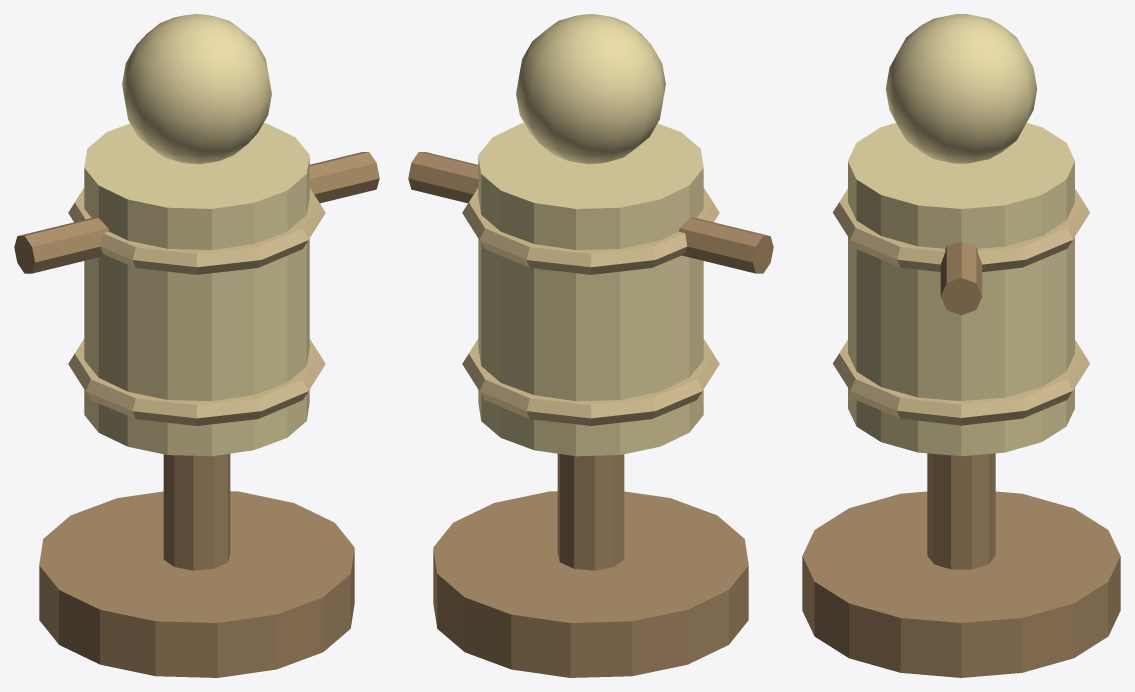
File: enemy_training_dummy.glb
The picture shows the model from 3 angles, left to right: view 1: azimuth 30°, elevation 25°; view 2: azimuth 150°, elevation 25°; view 3: azimuth 270°, elevation 25°; orthographic projection.
Visible parts, largest first — view 1: enemy_training_dummy; view 2: enemy_training_dummy; view 3: enemy_training_dummy.
Boxes of the visible parts, x1,y1,x2,y2 form: enemy_training_dummy: [14, 14, 379, 677]; enemy_training_dummy: [408, 14, 773, 677]; enemy_training_dummy: [802, 14, 1120, 677].
Size of the model in its own units: 1.05 by 1.72 by 0.84.
